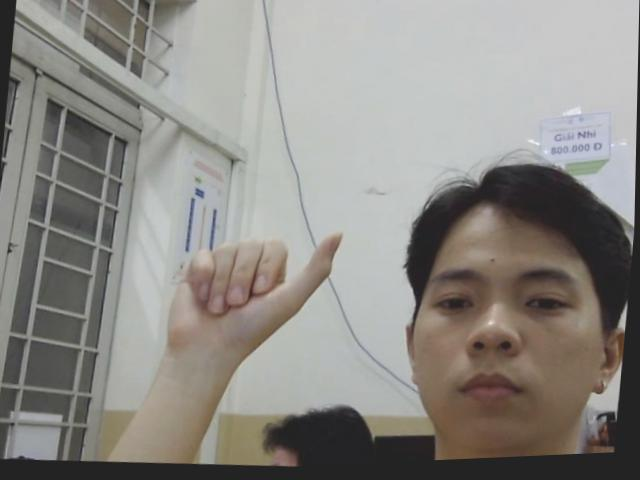A: (168, 222, 345, 355)
